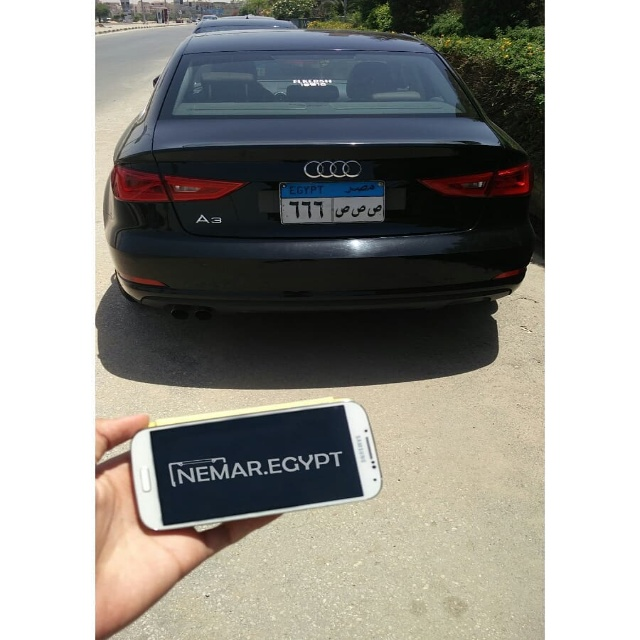License Plate: (276, 179, 390, 225)
